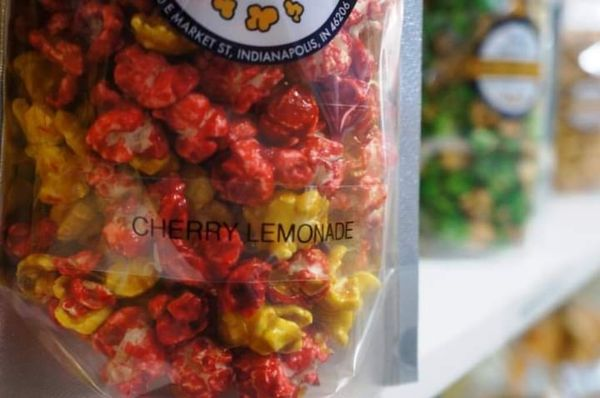sandwich: (3, 1, 388, 385)
